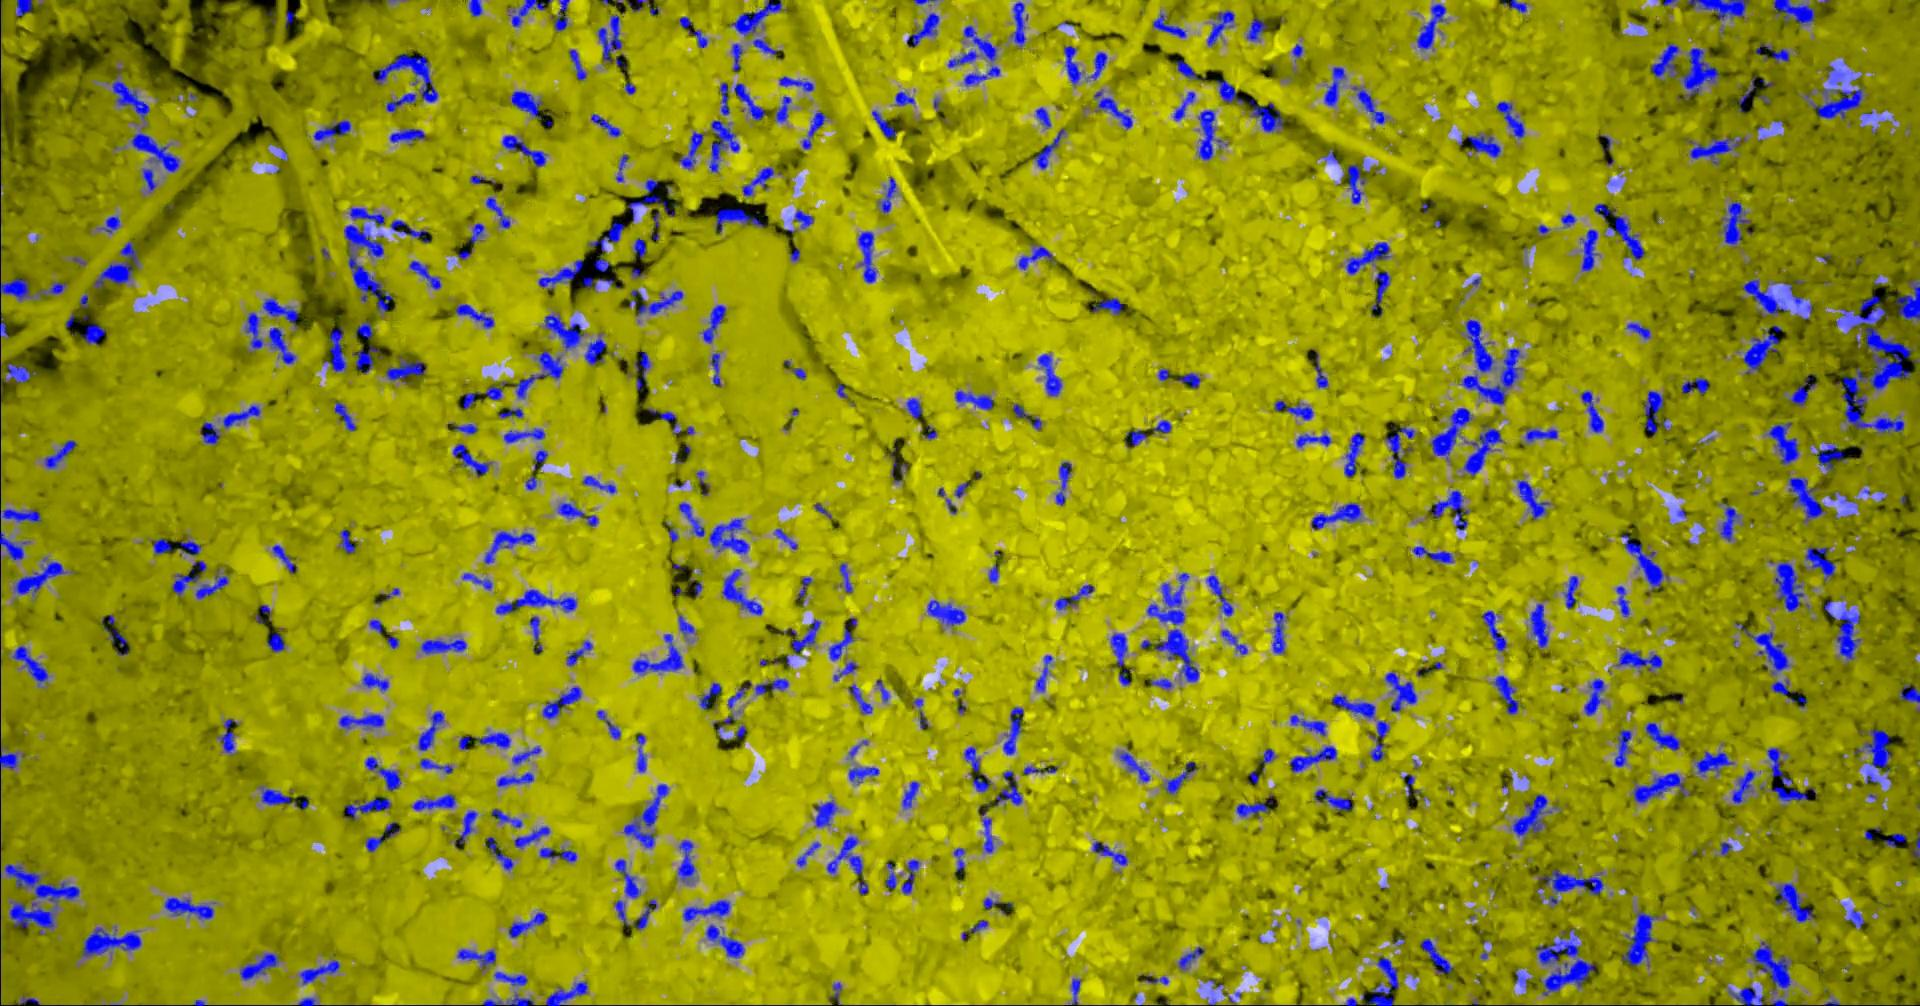ant: (1459, 348, 1521, 404), (980, 770, 1021, 852), (372, 53, 437, 102), (1592, 203, 1644, 259), (623, 782, 668, 847), (1622, 533, 1667, 589), (514, 351, 563, 398), (1539, 869, 1603, 904), (13, 558, 71, 596), (1768, 747, 1808, 801), (963, 25, 999, 85), (1823, 600, 1860, 659), (627, 178, 676, 222), (1677, 47, 1719, 98), (1430, 406, 1470, 459), (1622, 909, 1658, 967), (1743, 629, 1789, 674), (94, 241, 138, 288), (1463, 424, 1502, 476), (632, 633, 683, 672), (495, 589, 577, 614), (130, 132, 179, 171), (1751, 941, 1790, 991), (1742, 325, 1782, 373), (1542, 959, 1595, 995), (1630, 772, 1690, 803), (730, 0, 781, 36), (721, 569, 762, 614), (81, 927, 141, 956), (110, 75, 149, 119), (1808, 86, 1862, 118), (483, 531, 535, 563), (1463, 319, 1493, 372), (1688, 136, 1745, 164), (1512, 794, 1550, 836), (597, 14, 626, 69), (709, 119, 739, 171), (1384, 426, 1415, 478), (1429, 490, 1468, 530), (1788, 478, 1823, 521), (1535, 929, 1578, 964), (1741, 279, 1785, 314), (1774, 883, 1813, 921), (1368, 956, 1398, 1005), (1345, 241, 1389, 274), (1093, 90, 1131, 128), (11, 645, 48, 685), (825, 836, 862, 875), (1774, 561, 1803, 611), (502, 135, 546, 166), (543, 314, 583, 349), (781, 619, 820, 654), (709, 518, 749, 553), (629, 290, 683, 315), (1197, 109, 1225, 159), (1032, 127, 1065, 169), (1416, 3, 1445, 50), (538, 259, 583, 290), (1310, 502, 1361, 528), (705, 923, 744, 958), (963, 746, 992, 791), (1766, 422, 1798, 464), (542, 686, 582, 719), (1384, 671, 1416, 711), (364, 756, 400, 790), (1352, 86, 1385, 123), (452, 443, 489, 476), (1643, 390, 1671, 433), (828, 617, 856, 661), (1517, 480, 1548, 520), (715, 207, 764, 231), (1289, 746, 1336, 771), (1863, 728, 1890, 772), (171, 560, 206, 594), (733, 83, 764, 119), (1420, 937, 1451, 974), (1688, 0, 1749, 19), (1723, 201, 1750, 244), (905, 11, 938, 46), (164, 897, 213, 920), (587, 221, 623, 251), (343, 796, 391, 819), (1248, 99, 1283, 131), (1206, 575, 1233, 616), (1481, 610, 1506, 652), (239, 953, 278, 979), (1804, 546, 1835, 580), (364, 821, 399, 851), (1771, 0, 1815, 24), (1331, 694, 1374, 718), (260, 786, 309, 808), (385, 354, 425, 380), (298, 959, 339, 984), (1496, 102, 1524, 138), (262, 298, 298, 326), (1770, 680, 1807, 708), (323, 326, 345, 371), (417, 711, 443, 749), (682, 899, 729, 921), (1037, 353, 1062, 395), (545, 981, 587, 1005), (1164, 761, 1196, 793), (196, 568, 229, 598), (1615, 650, 1661, 672), (268, 326, 295, 363), (1895, 279, 1919, 320), (678, 131, 703, 169), (1055, 584, 1093, 610), (927, 600, 965, 625), (615, 859, 640, 897), (508, 912, 546, 937), (1206, 10, 1234, 44), (1650, 43, 1677, 77), (1644, 721, 1679, 749), (1003, 708, 1023, 754), (557, 502, 597, 526), (1493, 674, 1517, 714), (1018, 243, 1054, 269), (1580, 391, 1603, 432), (1343, 432, 1364, 478), (742, 166, 773, 196), (408, 260, 439, 290), (1117, 752, 1149, 781), (510, 91, 543, 119), (801, 111, 825, 149), (390, 218, 428, 243), (455, 304, 493, 328), (1695, 751, 1733, 775), (486, 836, 513, 870), (508, 0, 543, 25), (702, 304, 725, 343), (44, 439, 76, 467), (1815, 442, 1846, 470), (678, 502, 703, 536), (679, 17, 707, 47), (1323, 66, 1345, 105), (858, 231, 875, 282), (648, 408, 681, 433), (1731, 768, 1755, 803), (222, 405, 260, 427), (1314, 789, 1352, 810), (455, 810, 476, 848), (1010, 0, 1027, 46), (1371, 271, 1389, 316), (1236, 795, 1271, 818), (1092, 841, 1128, 864), (456, 948, 495, 968), (1578, 229, 1597, 271), (1152, 13, 1185, 37), (1467, 133, 1500, 158), (677, 840, 695, 884), (1788, 376, 1815, 405), (312, 119, 350, 140), (1369, 720, 1388, 761), (1529, 603, 1547, 647), (1289, 714, 1324, 735), (411, 793, 455, 810), (513, 826, 549, 847), (485, 196, 509, 227), (1346, 164, 1365, 203), (954, 390, 993, 409), (1583, 678, 1604, 715), (352, 345, 378, 373), (103, 626, 128, 655), (216, 718, 237, 752), (0, 277, 32, 300), (1274, 400, 1312, 419), (1215, 77, 1243, 103), (272, 544, 296, 573), (848, 683, 872, 713), (596, 709, 620, 738), (632, 899, 657, 929), (1719, 503, 1738, 540), (338, 713, 383, 728), (584, 333, 606, 365), (1055, 461, 1070, 506), (1727, 986, 1763, 1005), (590, 113, 620, 136), (349, 207, 383, 226), (1063, 44, 1079, 84), (1222, 629, 1247, 654), (566, 640, 592, 666), (871, 111, 895, 137), (0, 531, 23, 559), (420, 639, 466, 653), (877, 177, 895, 212), (334, 401, 356, 431), (634, 351, 650, 389), (1412, 546, 1453, 561), (796, 841, 820, 866), (1737, 77, 1755, 112), (582, 475, 616, 493), (698, 682, 721, 709), (728, 681, 750, 708), (245, 312, 262, 349), (1614, 729, 1630, 766), (1175, 58, 1203, 80), (6, 362, 36, 382), (1110, 633, 1128, 666), (1035, 655, 1051, 691), (475, 732, 510, 748), (888, 447, 907, 478), (0, 743, 23, 768), (491, 808, 522, 827), (1173, 91, 1194, 119), (503, 428, 543, 442), (0, 508, 41, 522), (902, 859, 918, 893), (389, 128, 425, 144), (81, 323, 105, 345), (1178, 946, 1203, 969), (551, 0, 569, 30), (568, 50, 585, 80), (385, 93, 415, 111), (461, 572, 491, 589), (1087, 51, 1106, 79), (538, 847, 577, 861), (778, 76, 813, 91), (754, 678, 789, 694), (814, 801, 836, 826), (510, 746, 540, 763), (497, 772, 533, 786), (419, 758, 452, 774), (833, 661, 857, 681), (947, 51, 977, 67), (1295, 433, 1330, 447), (1272, 611, 1284, 653), (493, 970, 527, 984), (902, 781, 919, 808), (1314, 351, 1327, 387), (1246, 17, 1266, 39), (1092, 298, 1123, 314), (199, 422, 220, 445), (775, 528, 797, 549), (1680, 376, 1708, 392), (848, 767, 877, 782), (1525, 427, 1557, 441), (752, 38, 778, 55), (795, 577, 811, 603), (362, 673, 389, 690), (1615, 586, 1629, 616), (1564, 575, 1577, 608), (484, 381, 507, 399), (530, 616, 541, 652), (1401, 774, 1418, 796), (582, 276, 613, 288), (632, 0, 658, 15), (839, 561, 852, 592), (1898, 683, 1919, 702), (636, 733, 646, 771), (615, 154, 629, 180), (775, 97, 790, 121), (1625, 323, 1650, 338), (1176, 372, 1200, 387), (340, 528, 356, 553), (265, 633, 284, 652), (99, 215, 119, 232), (712, 714, 733, 732), (615, 899, 629, 925), (505, 992, 533, 1005), (710, 352, 720, 386), (794, 210, 813, 227), (39, 281, 66, 293), (469, 224, 483, 248), (1035, 107, 1050, 128), (719, 83, 729, 114), (142, 168, 156, 191), (1846, 909, 1863, 929), (905, 398, 921, 418), (1125, 431, 1145, 446), (678, 614, 693, 634), (1022, 765, 1057, 774), (884, 862, 895, 889), (632, 238, 646, 259), (533, 448, 547, 470), (179, 540, 201, 554), (1884, 833, 1906, 847), (356, 321, 373, 338), (1501, 0, 1526, 11), (1261, 748, 1274, 771), (151, 539, 171, 553), (952, 847, 964, 871), (876, 680, 889, 701), (15, 0, 32, 17), (1827, 66, 1844, 83), (731, 43, 742, 70), (462, 391, 477, 409), (895, 91, 914, 105), (1514, 968, 1528, 987), (829, 982, 841, 1005), (452, 423, 477, 433), (1012, 403, 1029, 418), (650, 212, 659, 240), (498, 406, 522, 417), (1070, 978, 1079, 1005), (1150, 420, 1171, 432), (17, 995, 39, 1005), (469, 0, 483, 17), (1771, 48, 1789, 61), (969, 920, 987, 932), (1149, 678, 1171, 688), (1144, 976, 1168, 984), (954, 481, 968, 497), (593, 258, 610, 271), (1911, 831, 1919, 857), (983, 897, 1001, 908), (458, 735, 472, 749), (1291, 43, 1302, 61), (988, 563, 998, 580), (1561, 213, 1575, 226), (370, 619, 382, 633), (1247, 768, 1258, 784), (791, 367, 805, 379), (836, 384, 847, 398), (524, 475, 536, 489), (0, 316, 8, 337), (1157, 368, 1170, 380), (386, 635, 397, 648), (1719, 841, 1731, 854), (297, 997, 315, 1005)
